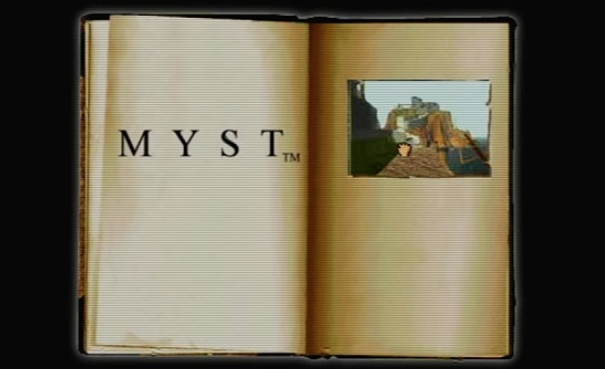Hold: (394, 140, 416, 160)
